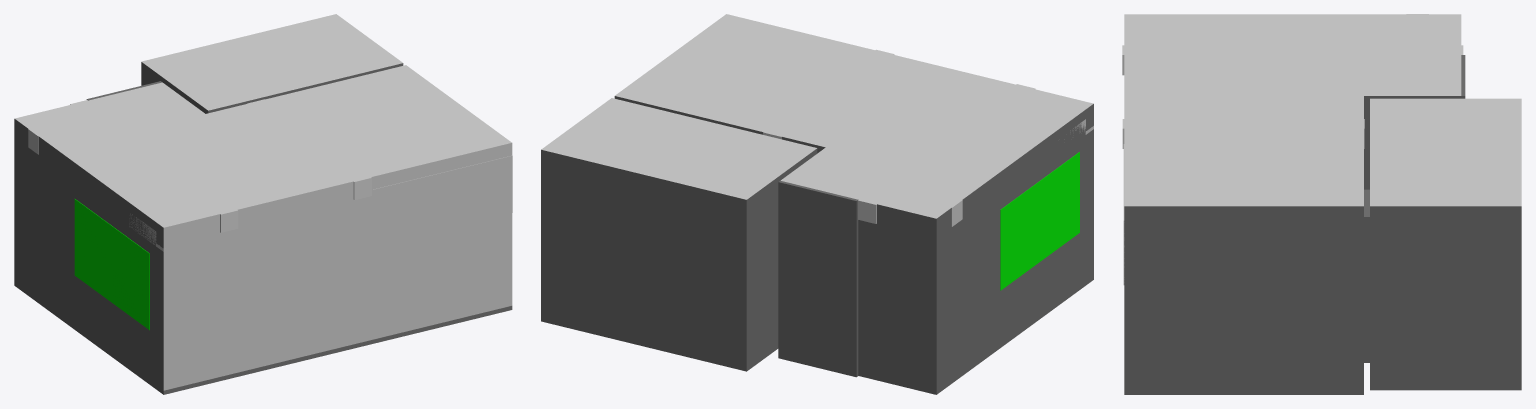
The model's file is chambre.obj.
3 renders of one model, left to right at view 1: azimuth 30°, elevation 25°; view 2: azimuth 150°, elevation 25°; view 3: azimuth 270°, elevation 25°, orthographic. The views are drawn at different scales.
Parts seen in each view (by area): view 1: Murs, Fenètre, Projection, Poutres; view 2: Murs, Projection, Poutres; view 3: Murs, Poutres.
Part boxes in pixels (x1,y1,x2,y2): Murs: (14,14,512,394); Fenètre: (373,155,512,246); Projection: (74,199,149,330); Poutres: (28,99,371,232); Murs: (541,14,1093,394); Projection: (1000,152,1079,290); Poutres: (763,49,1035,226); Murs: (1124,14,1521,394); Poutres: (1122,14,1463,148).
Size of the model in its own units: 6.01 by 2.75 by 5.27.
